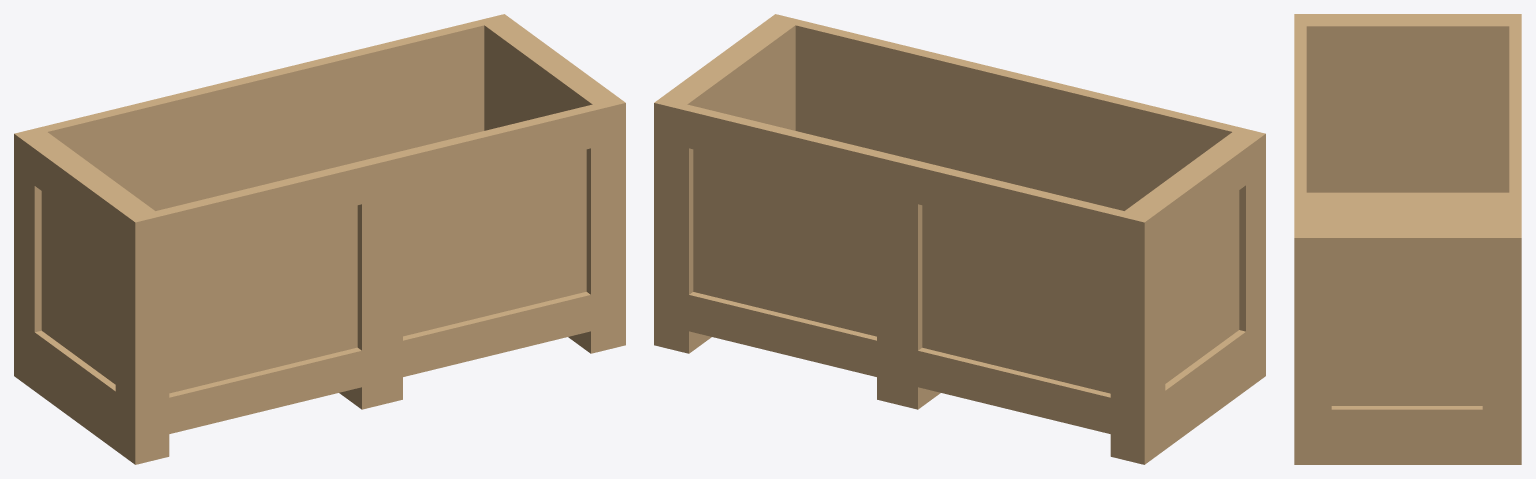
File: Lootbox.fbx
3 renders of one model, left to right at view 1: azimuth 30°, elevation 25°; view 2: azimuth 150°, elevation 25°; view 3: azimuth 270°, elevation 25°, orthographic. The views are drawn at different scales.
Parts seen in each view (by area): view 1: box_mesh:Box_mesh; view 2: box_mesh:Box_mesh; view 3: box_mesh:Box_mesh.
Boxes of the visible parts, x1,y1,x2,y2 form: box_mesh:Box_mesh: (14, 14, 625, 464); box_mesh:Box_mesh: (654, 14, 1265, 464); box_mesh:Box_mesh: (1294, 14, 1521, 464).
Size of the model in its own units: 13.99 by 6.61 by 6.
